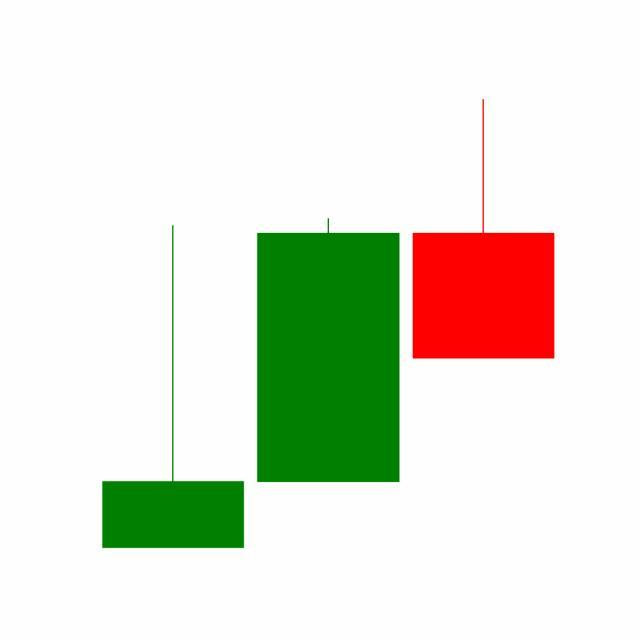Marubozu: (250, 215, 407, 485)
